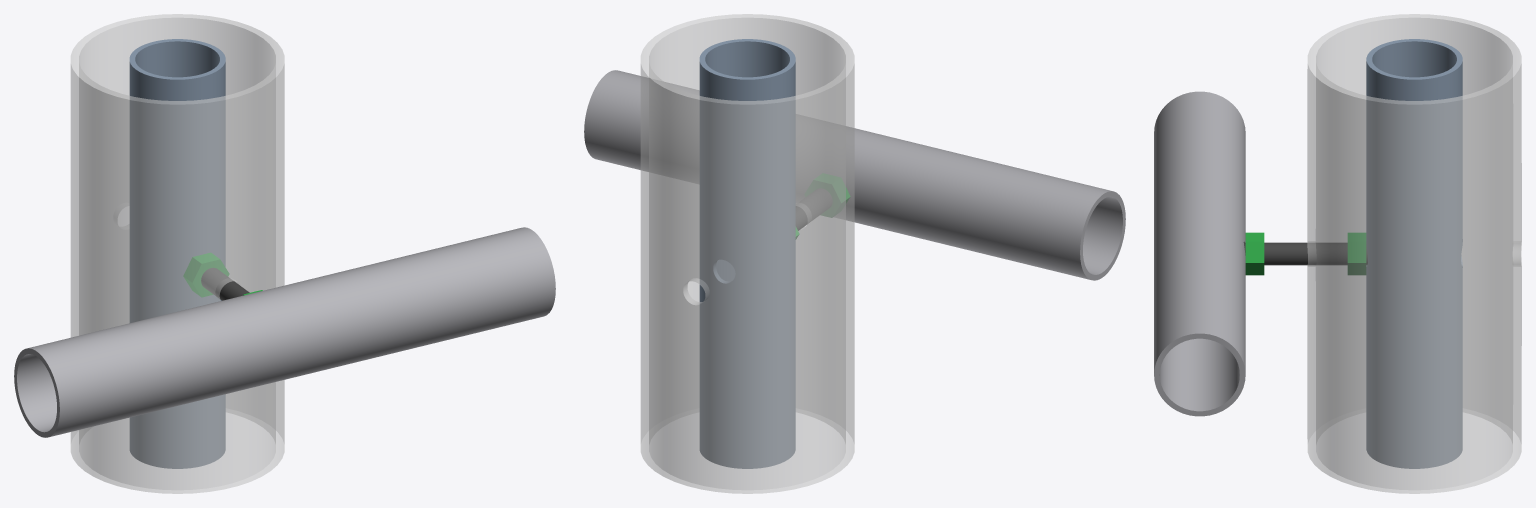
File: spine-connector-v3.glb
3 views of the same model, side by side, from view 1: azimuth 30°, elevation 25°; view 2: azimuth 150°, elevation 25°; view 3: azimuth 270°, elevation 25° (orthographic).
Parts seen in each view (by area): view 1: growing_pipe, track_pipe, spine_tube, spine_nut_outside, m8_rod; view 2: growing_pipe, spine_tube, track_pipe, m8_rod, lock_nut; view 3: growing_pipe, spine_tube, track_pipe, m8_rod, lock_nut, spine_nut_outside.
Boxes of the visible parts, box(x1,y1,x2,y2) form: growing_pipe: box(70, 14, 284, 493); track_pipe: box(14, 227, 555, 437); spine_tube: box(129, 39, 225, 468); spine_nut_outside: box(183, 253, 229, 297); m8_rod: box(201, 268, 249, 300); growing_pipe: box(640, 14, 854, 493); spine_tube: box(699, 39, 795, 468); track_pipe: box(584, 70, 1125, 280); m8_rod: box(796, 189, 831, 230); lock_nut: box(805, 174, 850, 217); growing_pipe: box(1307, 14, 1521, 493); spine_tube: box(1366, 39, 1462, 468); track_pipe: box(1154, 91, 1245, 416); m8_rod: box(1244, 242, 1367, 265); lock_nut: box(1245, 232, 1264, 275); spine_nut_outside: box(1348, 233, 1365, 274).
Size of the model in its own units: 200 by 150 by 128.
